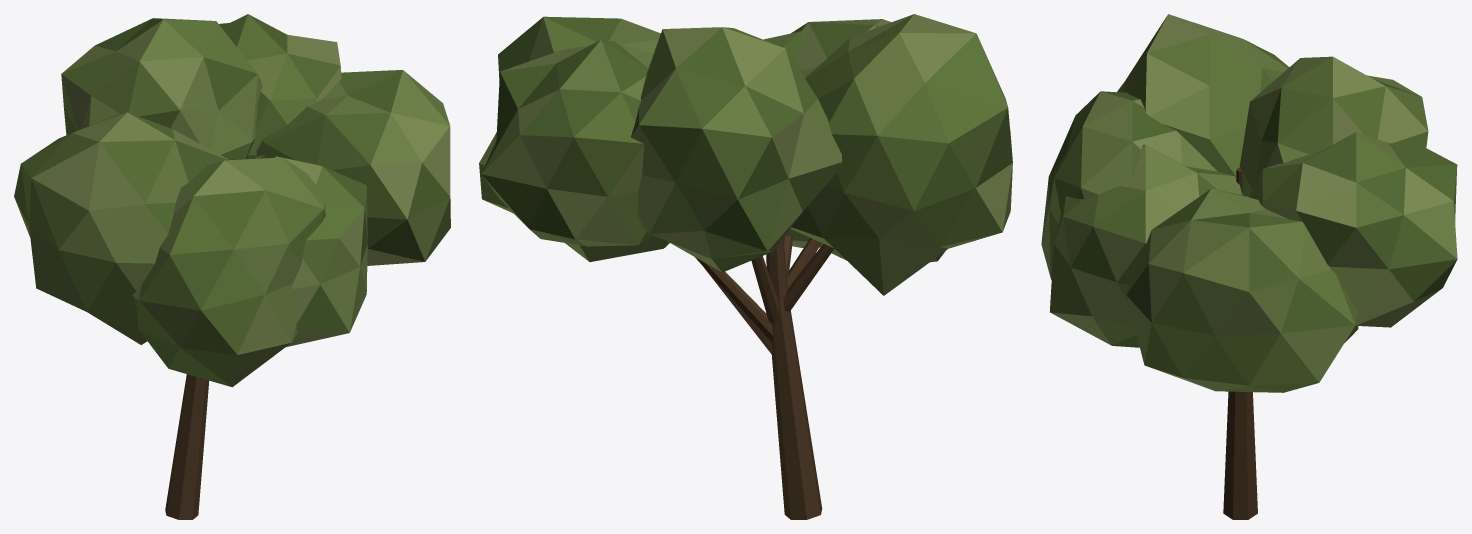
File: Tree08.obj
The picture shows the model from 3 angles, left to right: view 1: azimuth 30°, elevation 25°; view 2: azimuth 150°, elevation 25°; view 3: azimuth 270°, elevation 25°; orthographic projection. The views are drawn at different scales.
Visible parts, largest first — view 1: Crown.007, Trunk.007; view 2: Crown.007, Trunk.007; view 3: Crown.007, Trunk.007.
Boxes of the visible parts, box(x1,y1,x2,y2) form: Crown.007: box(14, 14, 450, 387); Trunk.007: box(165, 374, 209, 519); Crown.007: box(479, 14, 1012, 295); Trunk.007: box(695, 235, 834, 519); Crown.007: box(1041, 14, 1457, 392); Trunk.007: box(1223, 168, 1257, 519).
Bounding box in the file's own units: 6.62 × 6.7 × 5.38.
